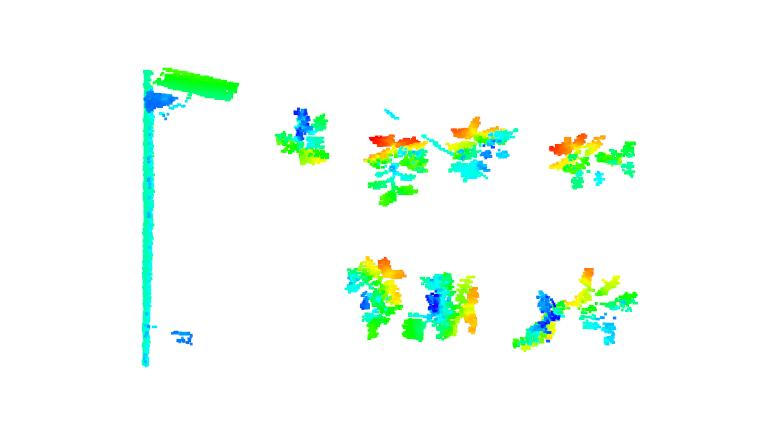chickpea: (400, 271, 484, 345), (567, 266, 642, 347), (548, 131, 639, 194), (342, 253, 406, 341), (363, 130, 430, 205), (444, 117, 519, 183), (272, 107, 332, 167), (510, 290, 568, 352)
